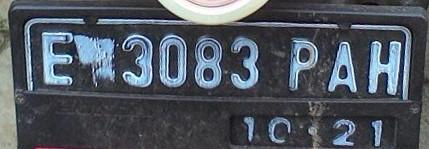clone-license-plate: (23, 16, 410, 148)
